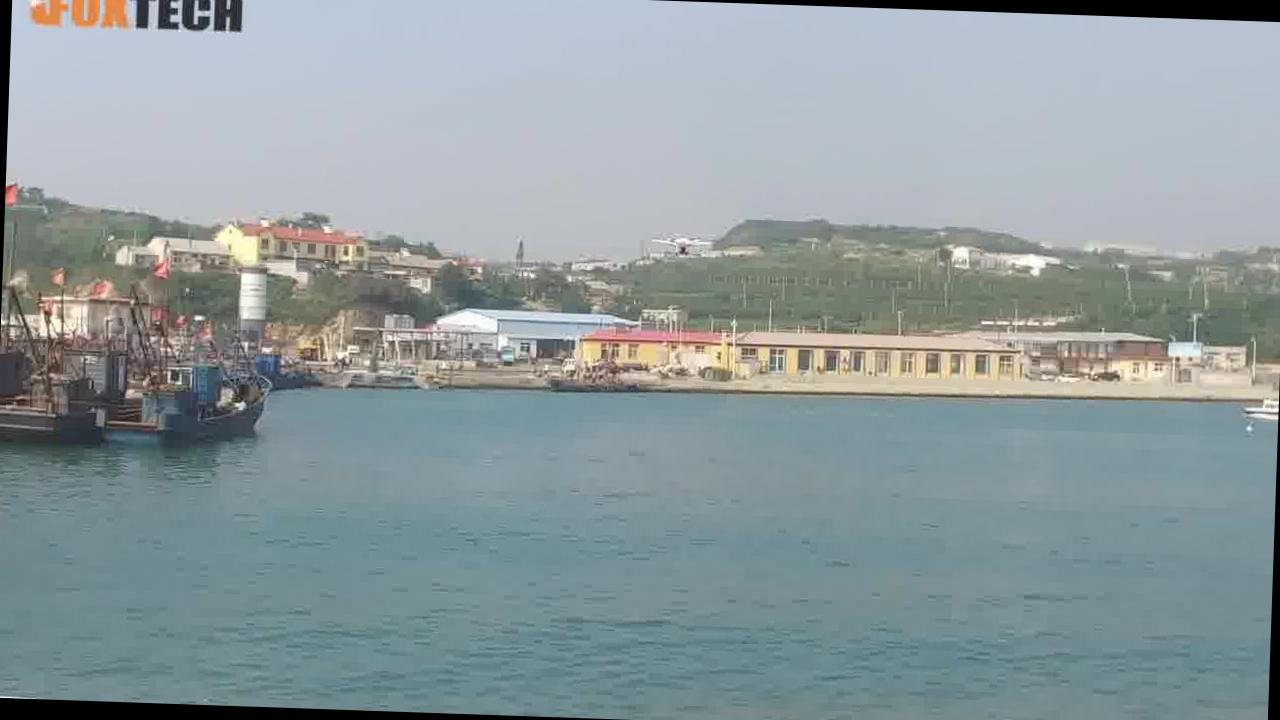drone: (651, 232, 712, 258)
